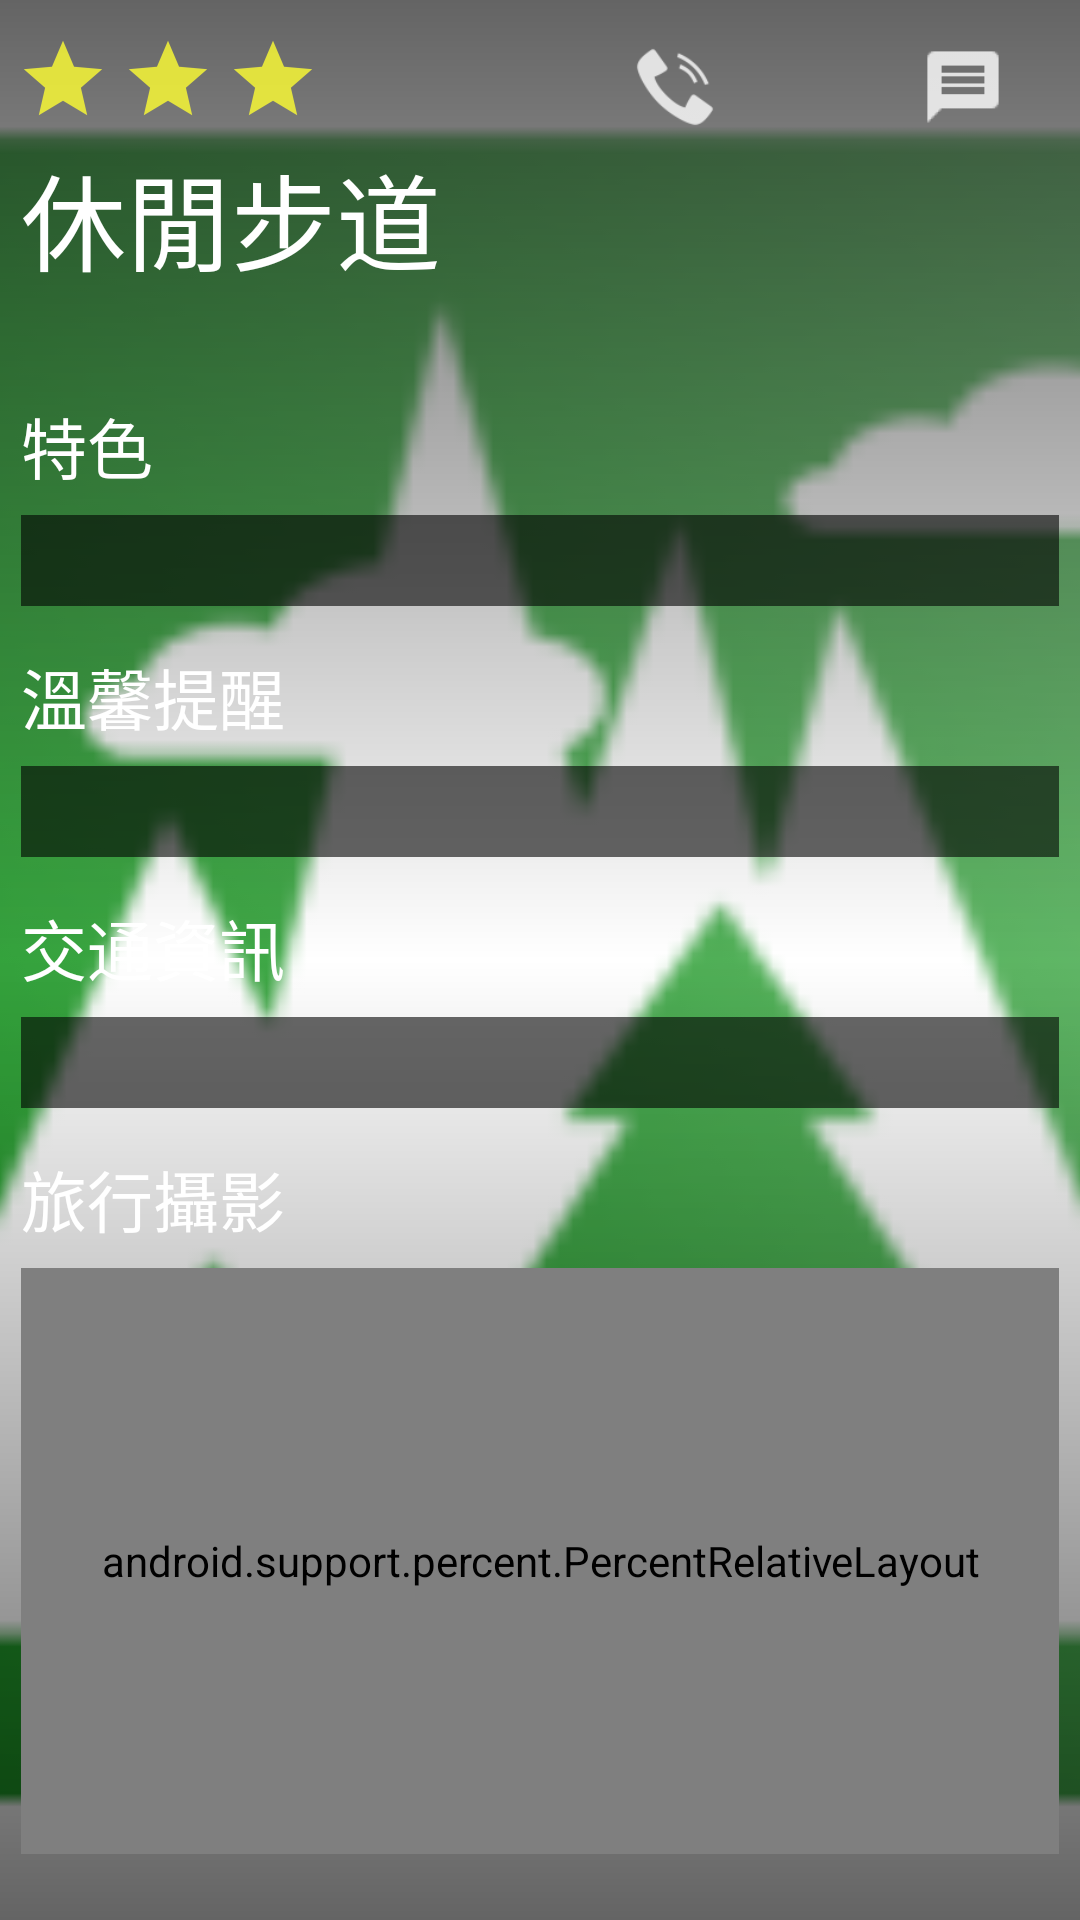

Where icons sit on this 1080 × 1920 app screen, as (x1, y1, x2, y2):
favstar: (24, 41, 102, 115), (129, 41, 207, 115), (234, 41, 312, 115)
makecall: (618, 48, 732, 144)
